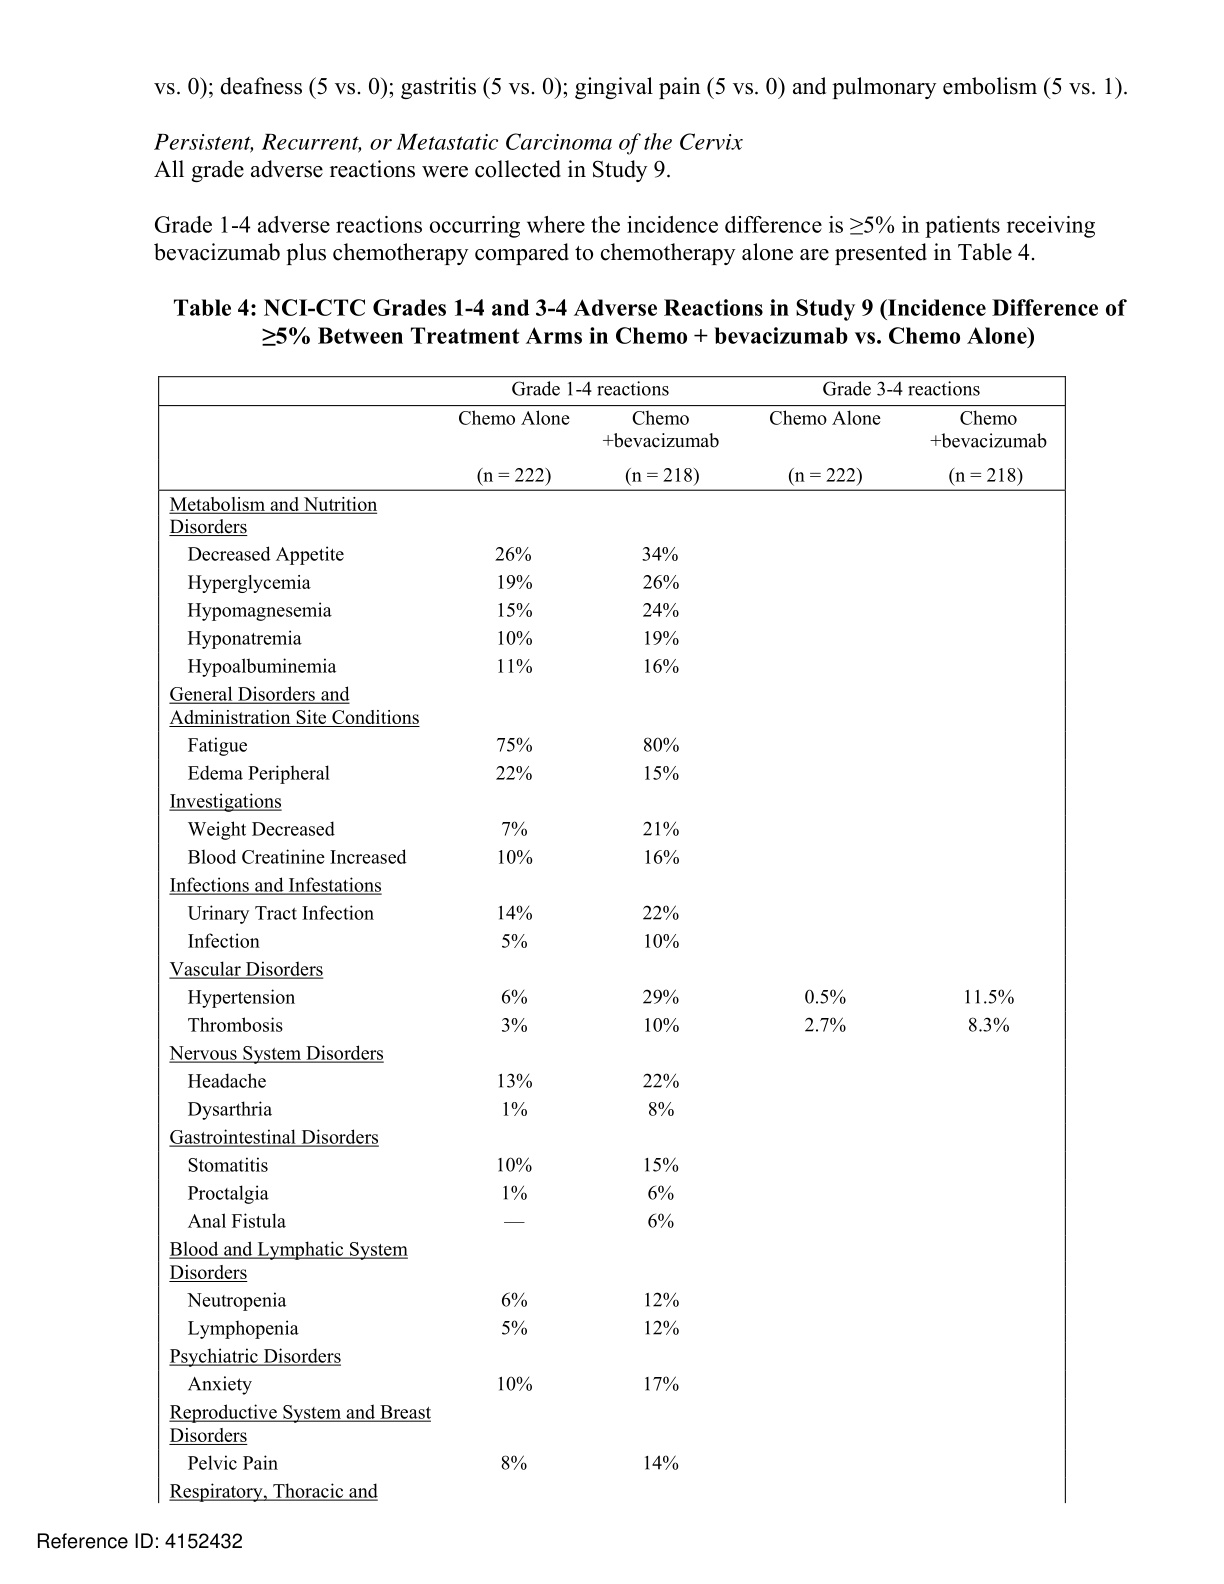partial_lined_merged_cells: (157, 375, 1067, 1506)
